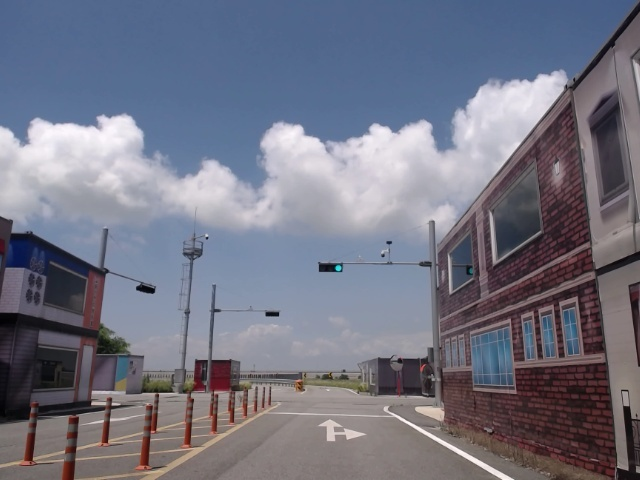green_3: (321, 263, 344, 273)
